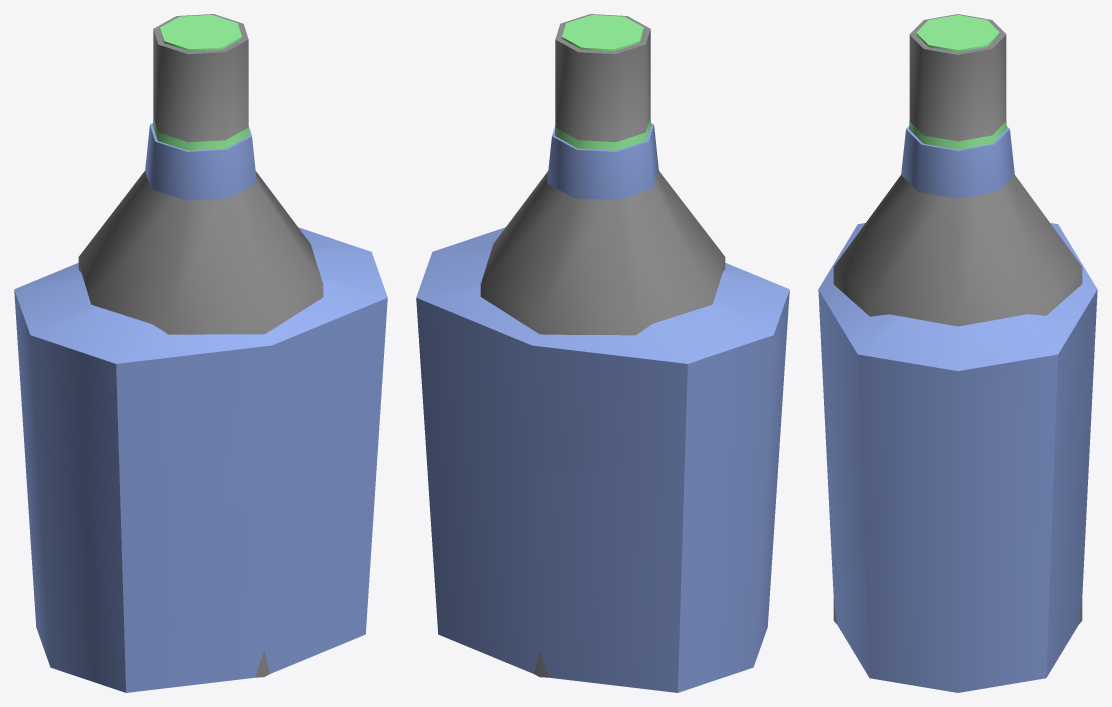
The model's file is Bottels_A.fbx.
The picture shows the model from 3 angles, left to right: view 1: azimuth 30°, elevation 25°; view 2: azimuth 150°, elevation 25°; view 3: azimuth 270°, elevation 25°; orthographic projection.
Parts seen in each view (by area): view 1: Bottle_2_L, Bottle_2_Br01, Bottle_1_L, Bottle_2_Br, Bottle_3_L, Bottle_1_Br; view 2: Bottle_2_L, Bottle_1_L, Bottle_2_Br01, Bottle_2_Br, Bottle_3_L, Bottle_1_Br; view 3: Bottle_2_L, Bottle_1_L, Bottle_2_Br, Bottle_2_Br01, Bottle_3_L, Bottle_1_Br.
Boxes of the visible parts, bbox=[...] form: Bottle_2_L: bbox=[14, 123, 387, 692]; Bottle_2_Br01: bbox=[21, 395, 379, 692]; Bottle_1_L: bbox=[78, 14, 323, 677]; Bottle_2_Br: bbox=[14, 291, 387, 517]; Bottle_3_L: bbox=[152, 15, 249, 150]; Bottle_1_Br: bbox=[78, 258, 323, 334]; Bottle_2_L: bbox=[416, 123, 789, 692]; Bottle_1_L: bbox=[480, 14, 725, 677]; Bottle_2_Br01: bbox=[427, 363, 784, 692]; Bottle_2_Br: bbox=[416, 290, 789, 471]; Bottle_3_L: bbox=[554, 15, 651, 150]; Bottle_1_Br: bbox=[480, 269, 721, 335]; Bottle_2_L: bbox=[818, 126, 1097, 692]; Bottle_1_L: bbox=[833, 14, 1082, 623]; Bottle_2_Br: bbox=[819, 291, 1097, 520]; Bottle_2_Br01: bbox=[827, 416, 1091, 692]; Bottle_3_L: bbox=[909, 15, 1006, 149]; Bottle_1_Br: bbox=[833, 268, 1082, 326].
Size of the model in its own units: 10.88 by 18.23 by 7.84.
